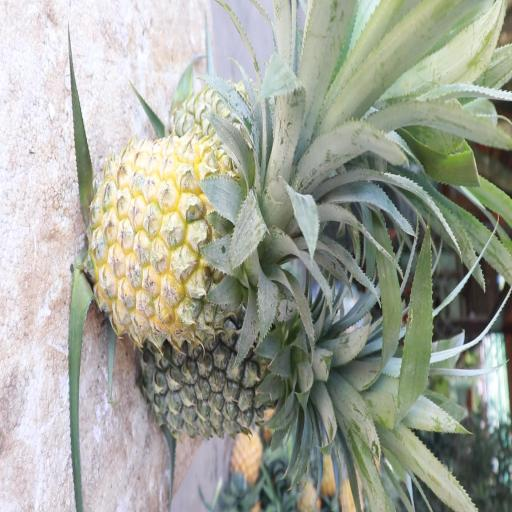Pineapple - v8 v1: (91, 142, 311, 338)
